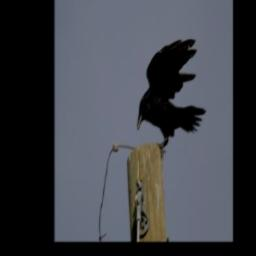Crow: (137, 36, 208, 157)
